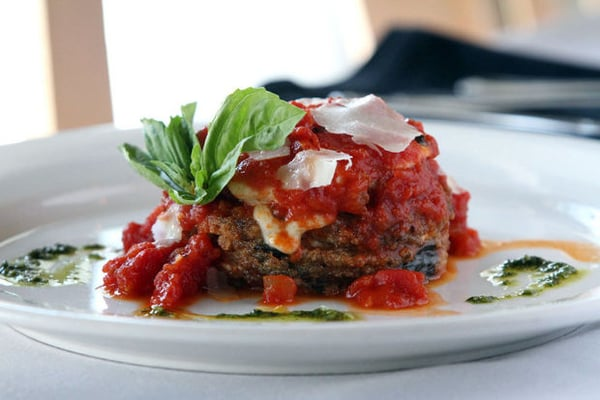soup: (99, 85, 464, 313)
